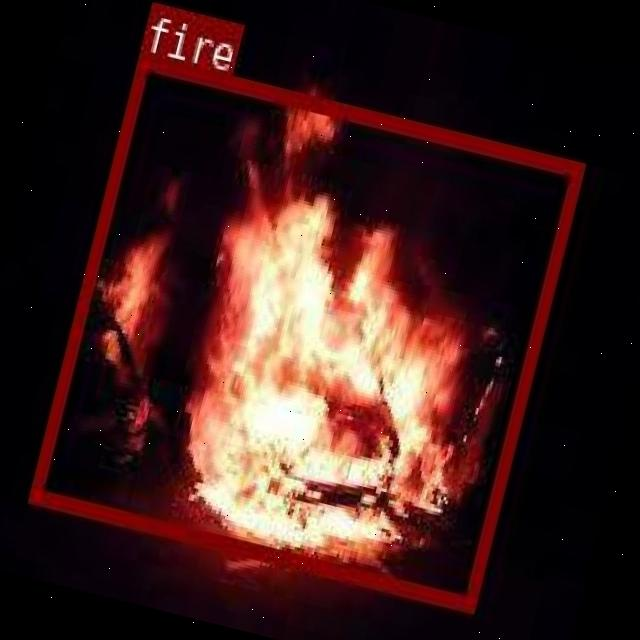fire: (27, 50, 583, 610)
